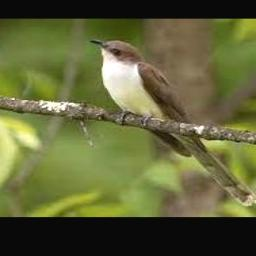Cuckoo: (88, 39, 256, 206)
